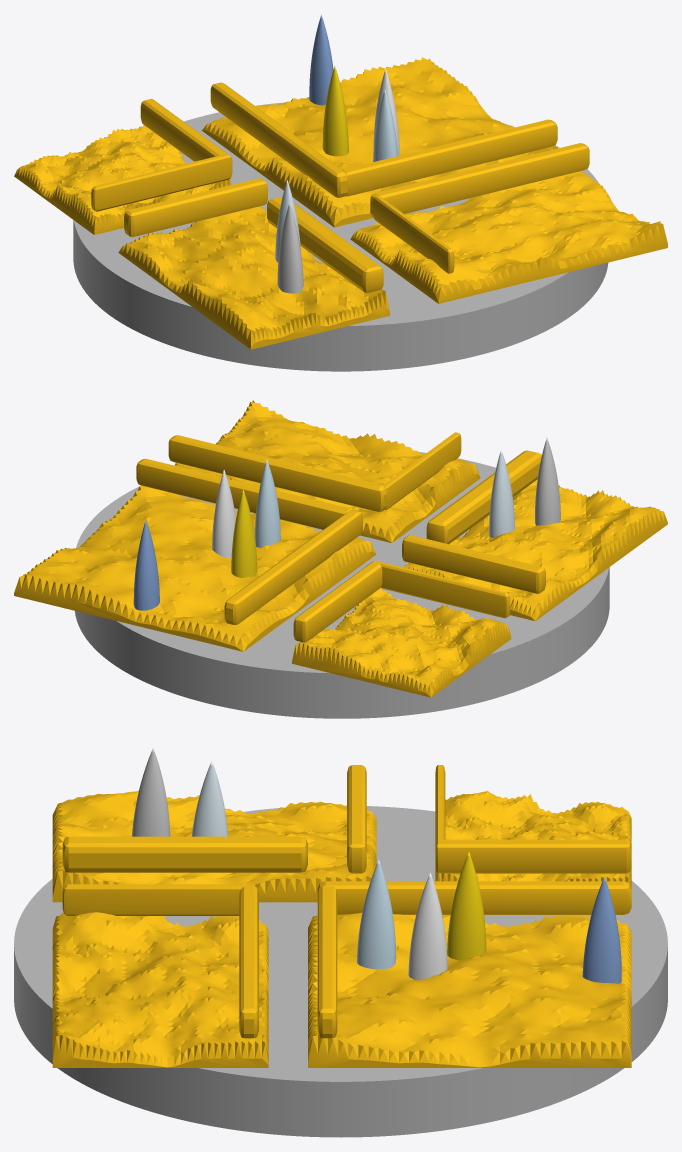
The model's file is GREEN.gltf.
The picture shows the model from 3 angles, top to bottom: view 1: azimuth 30°, elevation 25°; view 2: azimuth 150°, elevation 25°; view 3: azimuth 270°, elevation 25°; orthographic projection. The views are drawn at different scales.
Visible parts, largest first — view 1: Part 1 (×3), Part 7, Part 8, Part 5, Part 6, Part 3 (×2), Part 2 (×2); view 2: Part 1 (×3), Part 8, Part 5, Part 7, Part 6, Part 3 (×2), Part 2 (×2); view 3: Part 1 (×3), Part 8, Part 7, Part 5, Part 6, Part 2 (×2), Part 3 (×2).
Boxes of the visible parts, x1,y1,x2,y2 form: Part 1 (×3): (73, 15, 608, 371); Part 7: (350, 143, 667, 303); Part 8: (202, 57, 558, 227); Part 5: (118, 178, 389, 349); Part 6: (14, 98, 232, 234); Part 3 (×2): (275, 180, 303, 293); Part 2 (×2): (373, 69, 399, 161); Part 1 (×3): (75, 452, 609, 718); Part 8: (14, 458, 375, 651); Part 5: (402, 450, 667, 621); Part 7: (168, 400, 480, 542); Part 6: (292, 560, 511, 697); Part 3 (×2): (489, 437, 560, 537); Part 2 (×2): (212, 459, 280, 558); Part 1 (×3): (14, 805, 667, 1137); Part 8: (308, 881, 631, 1067); Part 7: (52, 884, 268, 1067); Part 5: (52, 765, 376, 902); Part 6: (435, 765, 631, 887); Part 2 (×2): (357, 860, 447, 980); Part 3 (×2): (132, 748, 228, 836).
Size of the model in its own units: 0.032 by 0.00947 by 0.032.
